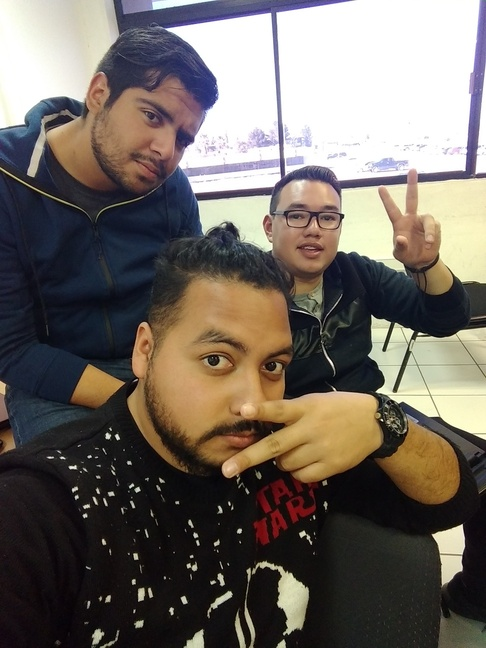Yoshi: (139, 224, 310, 476)
